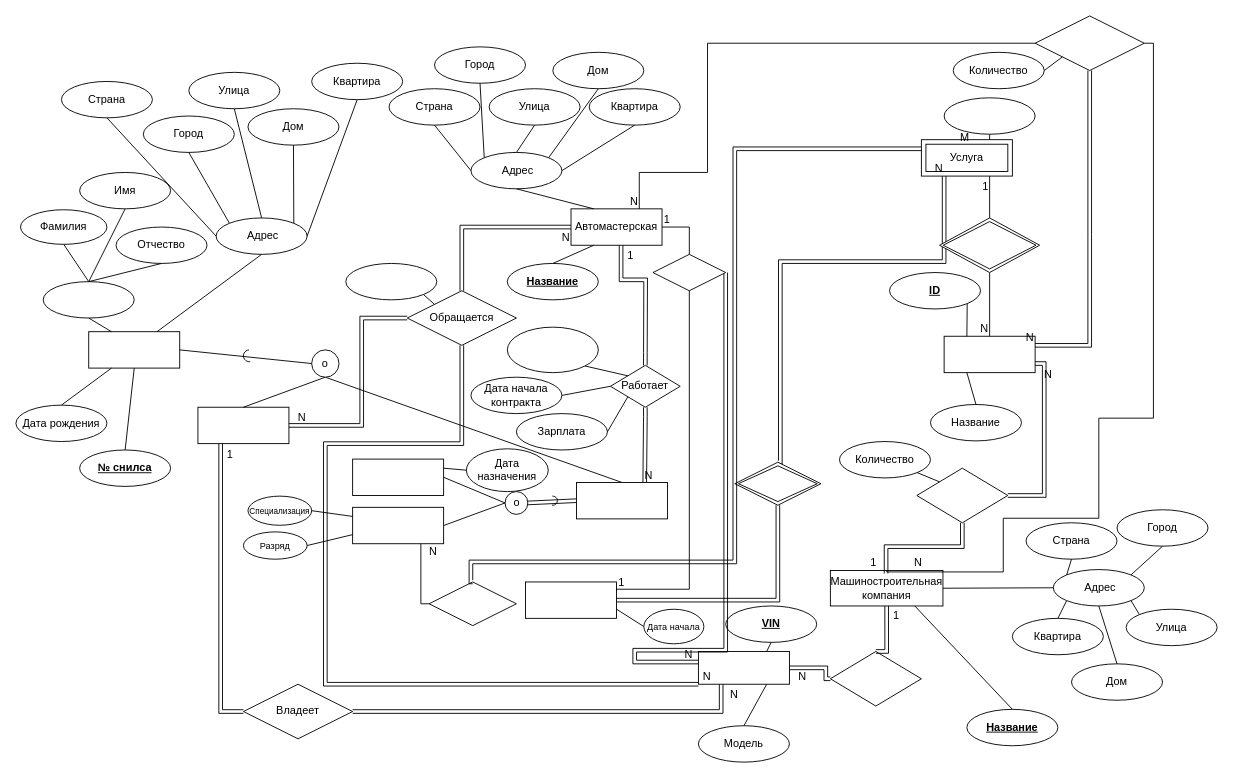
The diagram is 1233 pixels wide and 778 high, and some of its shapes have lost their labels. The shapes that lost their labels are listed below. From the top down, each one's centre as x and y in pixels, then its label:
the point at 1089,43: Заказывает
the point at 989,115: Название услуги
the point at 989,245: Используется
the point at 391,281: Дата обращения
the point at 689,272: Назначает
the point at 88,299: ФИО
the point at 134,349: Личность
the point at 552,349: Дата окончания контракта
the point at 989,354: Деталь
the point at 243,425: Клиент
the point at 398,476: Директор
the point at 777,483: Входит
the point at 962,495: Имеет
the point at 621,500: Сотрудник
the point at 398,525: Мастер
the point at 472,603: Занимается
the point at 571,599: Работа
the point at 743,667: Транспорное средство
the point at 875,678: Собирает
